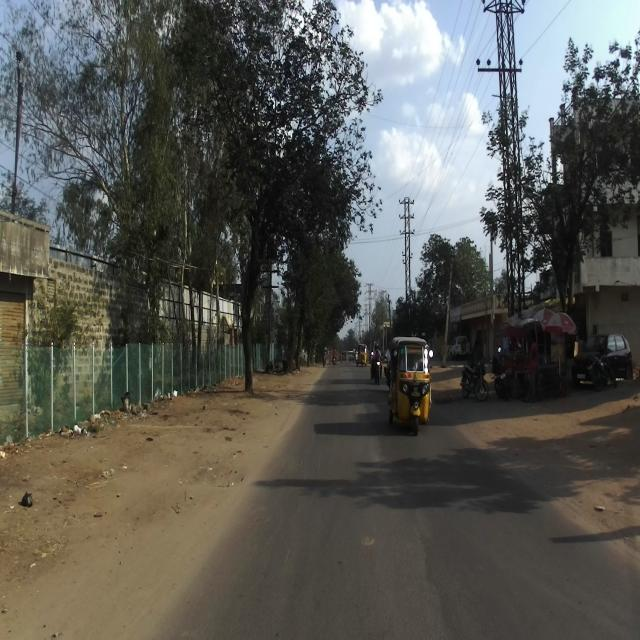Car_Maruti-Suzuki: (571, 333, 634, 388)
autorickshaw: (387, 336, 434, 436)
motorcycle_Hero: (460, 354, 488, 401), (489, 346, 509, 402)
